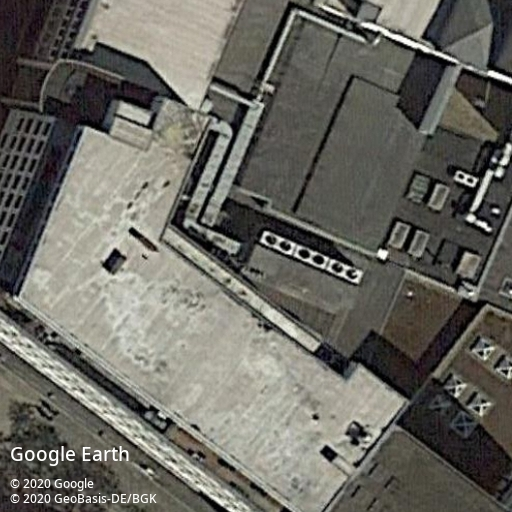Chiller: (259, 229, 299, 256), (291, 242, 331, 269), (325, 257, 365, 284), (450, 166, 480, 188)
